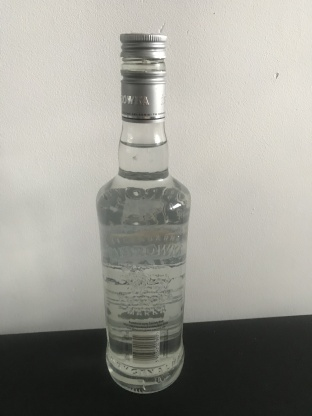nakretka: (118, 31, 168, 123)
